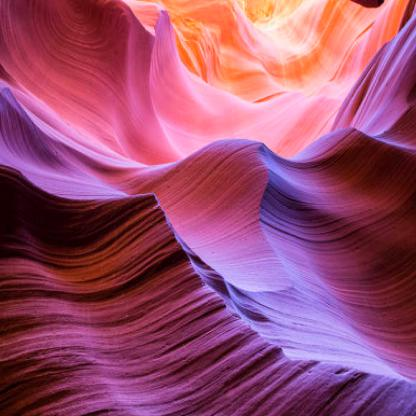Sedimentary_Sandstone: (0, 160, 415, 415)
